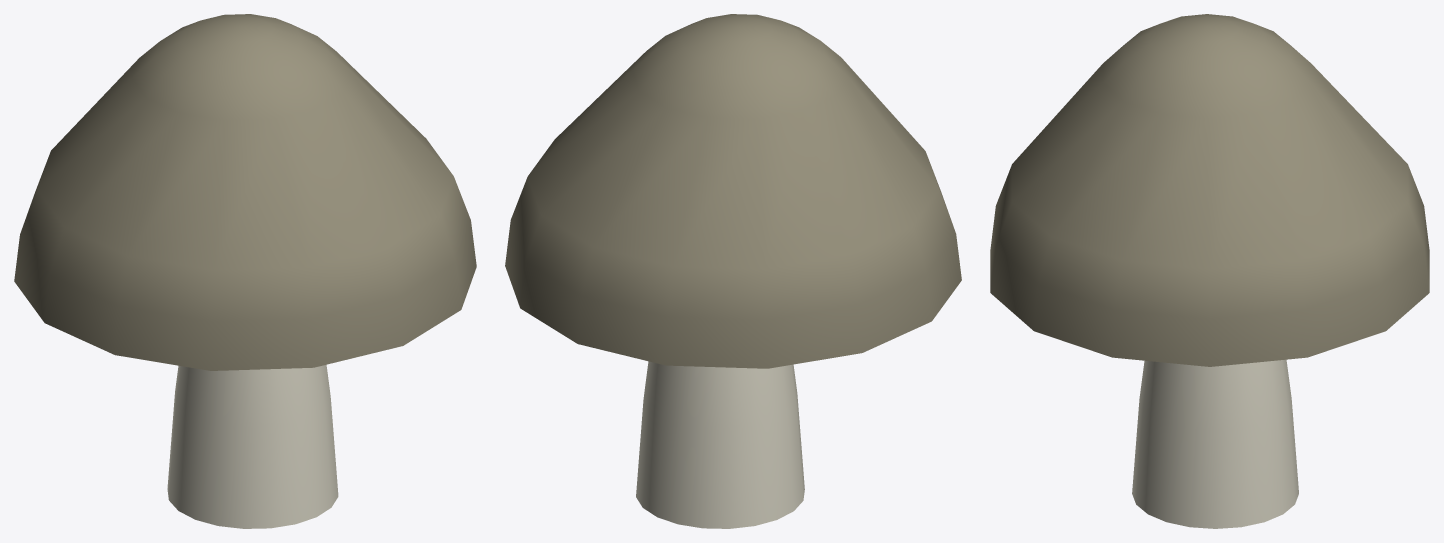
The model's file is paddenstoel5.fbx.
3 renders of one model, left to right at view 1: azimuth 30°, elevation 25°; view 2: azimuth 150°, elevation 25°; view 3: azimuth 270°, elevation 25°, orthographic. The views are drawn at different scales.
Parts seen in each view (by area): view 1: polySurface193; view 2: polySurface193; view 3: polySurface193.
Boxes of the visible parts, x1,y1,x2,y2 form: polySurface193: (14,14,476,528); polySurface193: (505,14,961,528); polySurface193: (990,14,1429,528).
Size of the model in its own units: 0.4257 by 0.4789 by 0.415.
